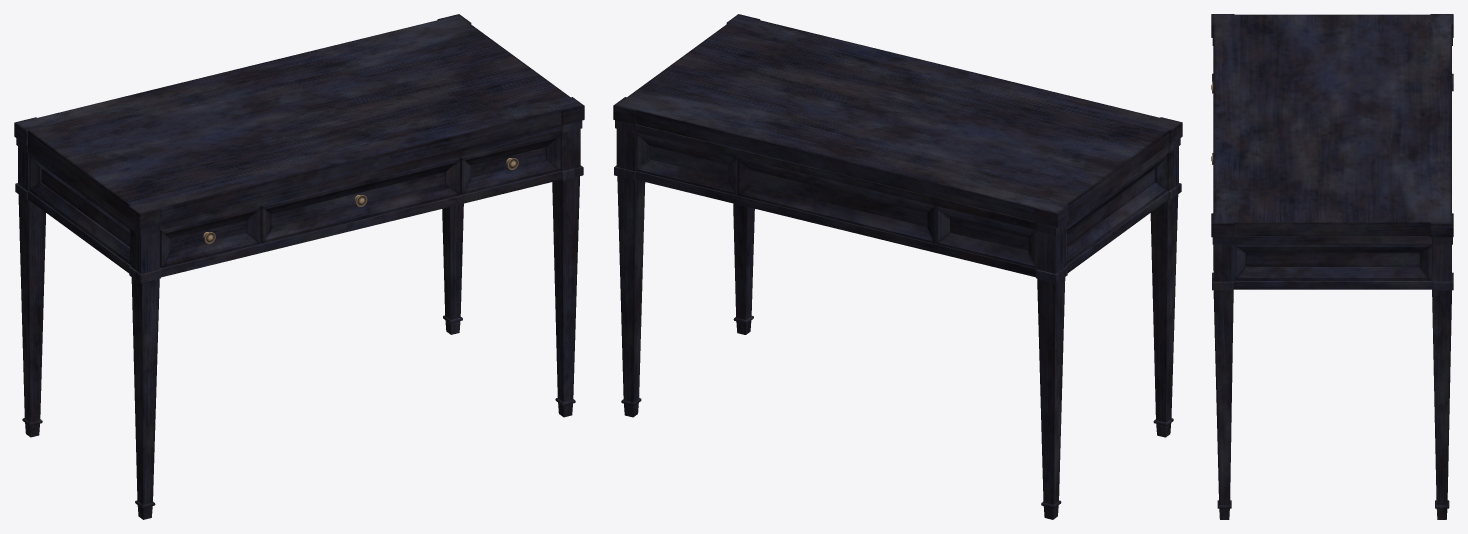
The model's file is desk_B07B7DKRW4.glb.
3 views of the same model, side by side, from view 1: azimuth 30°, elevation 25°; view 2: azimuth 150°, elevation 25°; view 3: azimuth 270°, elevation 25° (orthographic). The views are drawn at different scales.
Visible parts, largest first — view 1: RootNode; view 2: RootNode; view 3: RootNode.
Boxes of the visible parts, bbox=[...] form: RootNode: bbox=[14, 14, 584, 519]; RootNode: bbox=[613, 14, 1182, 519]; RootNode: bbox=[1211, 14, 1453, 519].
Size of the model in its own units: 1.29 by 0.8606 by 0.6298.
1 material, 1 textured.
